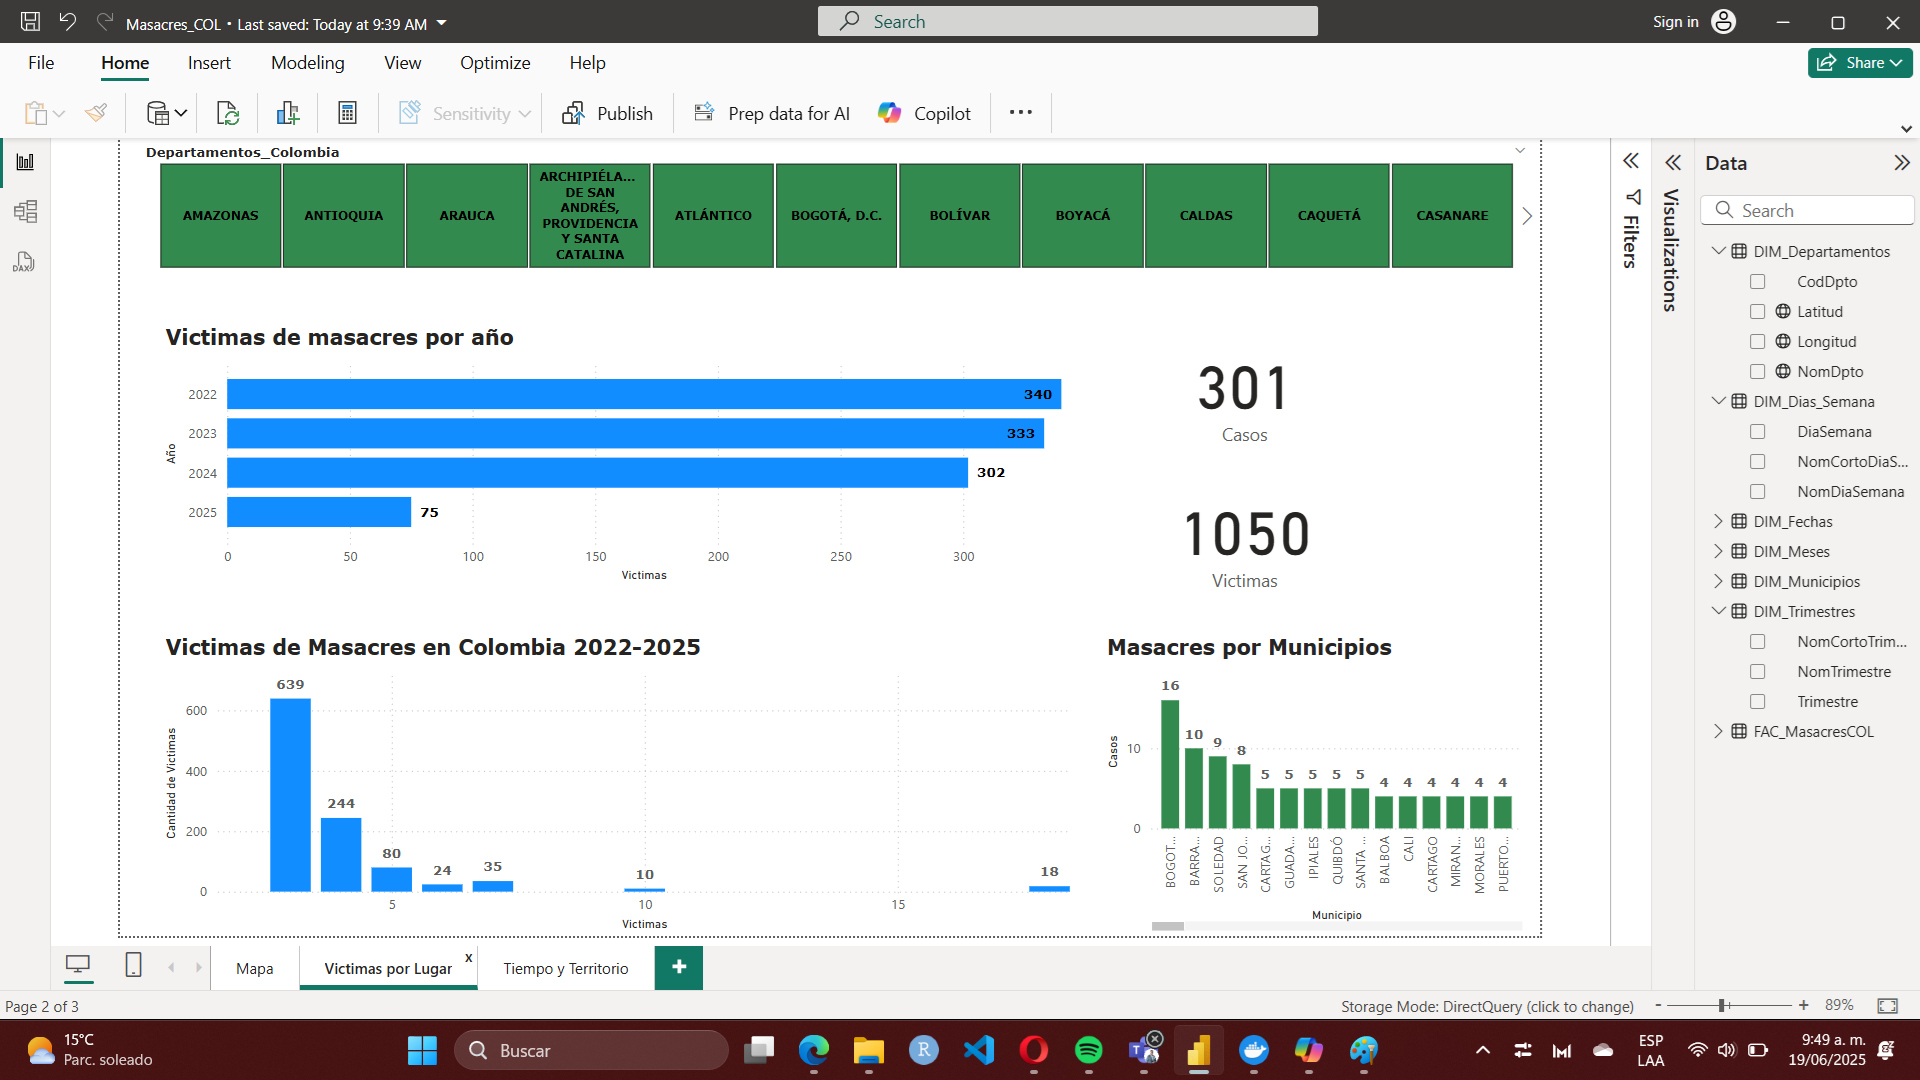

The page's visual inventory and layout, read from the dashboard file:
{"tool":"powerbi","page":{"name":"Victimas por Lugar","canvas":[1280,720],"ordinal":1},"visuals":[{"type":"slicer","fields":{"Values":["DIM_Departamentos.NomDpto"]},"box":[10.5,0,1269.8,122.1],"z":0},{"type":"clusteredBarChart","title":"Victimas de masacres por año","fields":{"Category":["DIM_Fechas.Annio"],"Y":["Sum(FAC_MasacresCOL.Victimas)"]},"box":[36,167.4,827.9,237.2],"z":1000},{"type":"card","fields":{"Values":["Sum(FAC_MasacresCOL.Casos)"]},"box":[884.9,167.4,259.3,122.1],"z":2000},{"type":"card","fields":{"Values":["Sum(FAC_MasacresCOL.Victimas)"]},"box":[884.9,289.5,259.3,141.9],"z":3000},{"type":"clusteredColumnChart","title":"Victimas de Masacres en Colombia 2022-2025","fields":{"Category":["FAC_MasacresCOL.Victimas"],"Y":["Sum(FAC_MasacresCOL.Victimas)"]},"box":[36,447.7,826.7,272.1],"z":4000},{"type":"clusteredColumnChart","title":"Masacres por Municipios","fields":{"Category":["DIM_Municipios.NomMpio"],"Y":["Sum(FAC_MasacresCOL.Casos)"]},"box":[884.9,447.7,384.9,272.1],"z":5000}]}

Visuals, with their boxes on the page's 1280x720 design canvas (x1, y1, x2, y2). These are canvas units, not pixel positions in the 1920x1080 screenshot, which may show the page scaled, cropped or inside an application window:
slicer - DIM_Departamentos.NomDpto: x1=10, y1=0, x2=1280, y2=122
"Victimas de masacres por año" clusteredBarChart: x1=36, y1=167, x2=864, y2=405
card - Sum(FAC_MasacresCOL.Casos): x1=885, y1=167, x2=1144, y2=290
card - Sum(FAC_MasacresCOL.Victimas): x1=885, y1=290, x2=1144, y2=431
"Victimas de Masacres en Colombia 2022-2025" clusteredColumnChart: x1=36, y1=448, x2=863, y2=720
"Masacres por Municipios" clusteredColumnChart: x1=885, y1=448, x2=1270, y2=720
